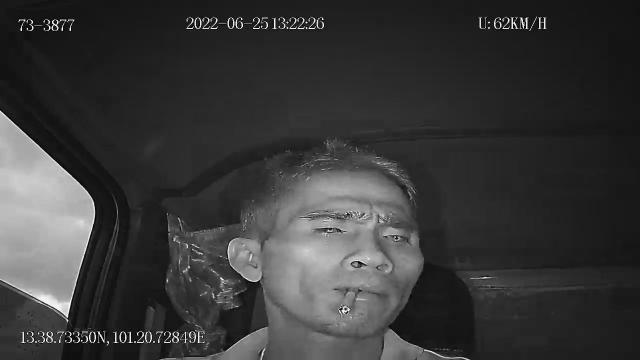SafeDriving: (304, 216, 354, 241), (373, 224, 416, 249)
Smoking: (339, 290, 358, 316)
